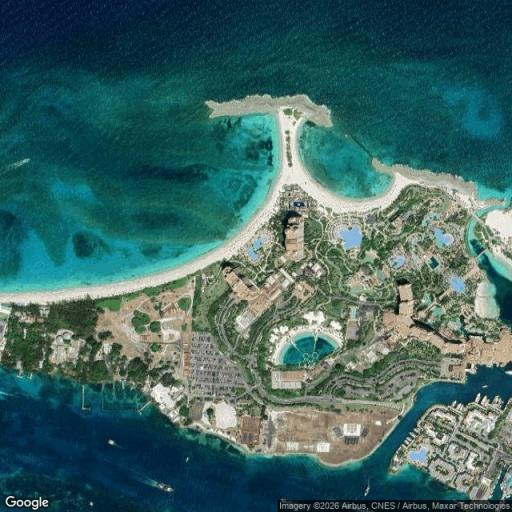ship: (137, 466, 180, 496), (355, 478, 376, 500), (491, 394, 499, 407), (495, 396, 502, 408), (408, 430, 417, 439), (480, 395, 487, 406), (474, 393, 481, 403), (483, 398, 490, 408), (480, 385, 491, 391), (406, 435, 414, 443), (456, 402, 463, 411), (451, 400, 459, 407), (403, 439, 411, 446), (413, 428, 421, 434), (459, 404, 464, 411)
